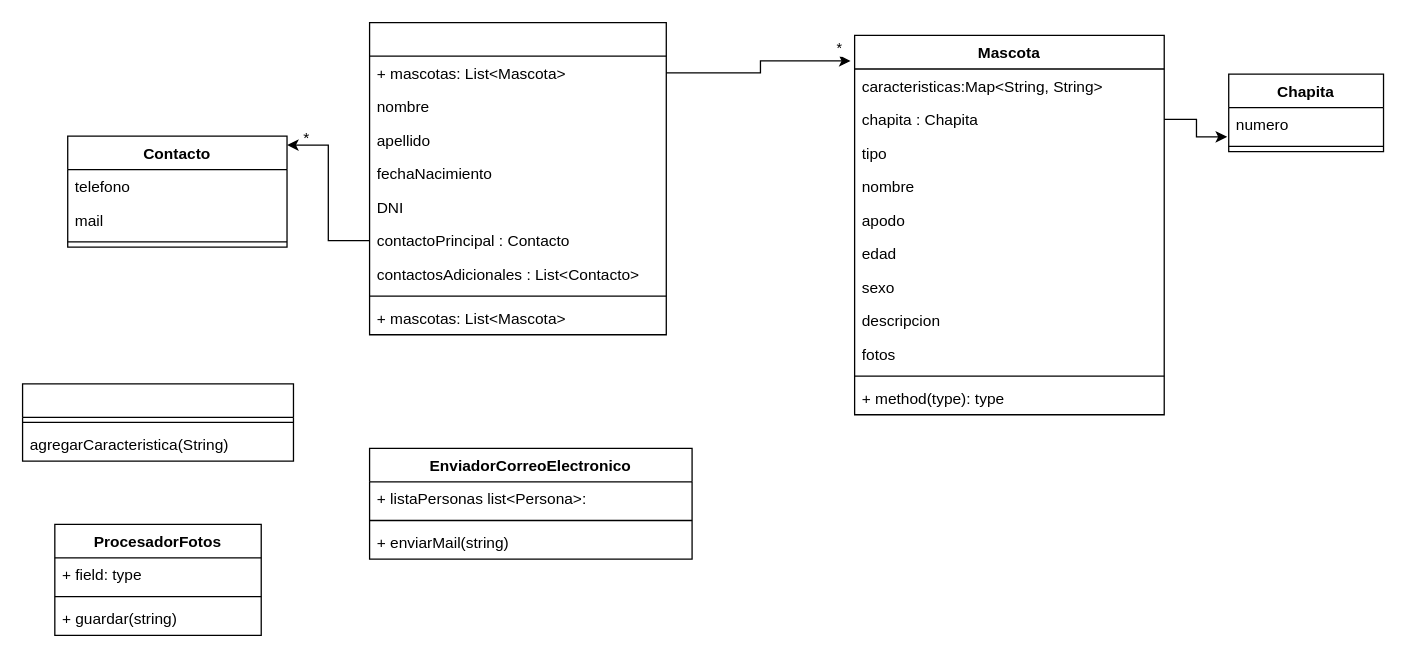
This 1406x662 diagram has some shape labels left out. The box of each missing label's shape, as (x1, y1, x2, y2) in pixels:
Administrador: (21, 382, 293, 461)
Persona: (368, 21, 666, 335)
